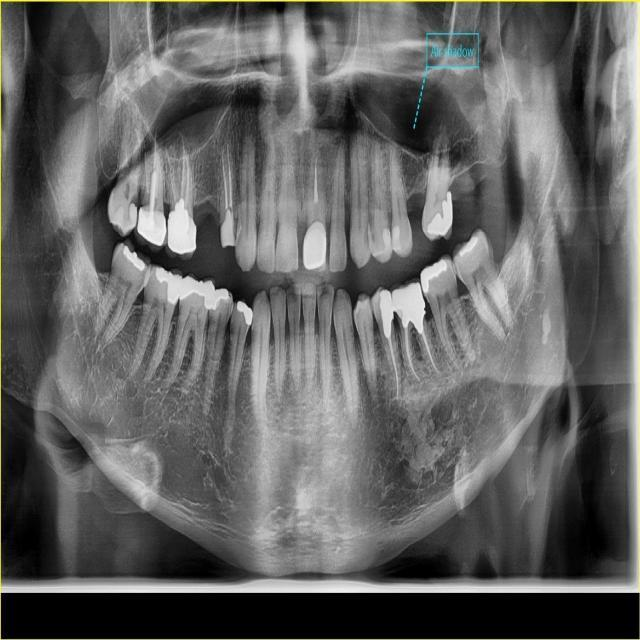71: (147, 168, 157, 232)
74: (401, 324, 420, 383), (419, 330, 442, 377), (386, 335, 402, 400), (166, 149, 177, 204), (221, 148, 229, 210), (183, 149, 191, 208), (226, 144, 233, 209), (314, 156, 320, 203), (142, 152, 149, 191), (181, 136, 185, 197), (156, 155, 159, 200), (153, 142, 157, 168)
NucleOSS Implant: (423, 190, 466, 243), (145, 265, 188, 305), (175, 273, 217, 310), (107, 198, 146, 237), (413, 253, 451, 293), (399, 295, 428, 334), (377, 288, 396, 338), (119, 242, 148, 273), (167, 199, 190, 236), (234, 298, 258, 326), (457, 234, 481, 259), (209, 289, 229, 311)
Sterngold Implant: (139, 185, 150, 207), (362, 225, 370, 252), (129, 193, 138, 209)
Straumann Implant: (370, 228, 400, 265), (219, 208, 236, 248), (389, 224, 404, 258)
Zimmer Implant: (386, 276, 428, 321), (131, 207, 172, 253), (166, 214, 198, 259), (301, 220, 326, 274)
